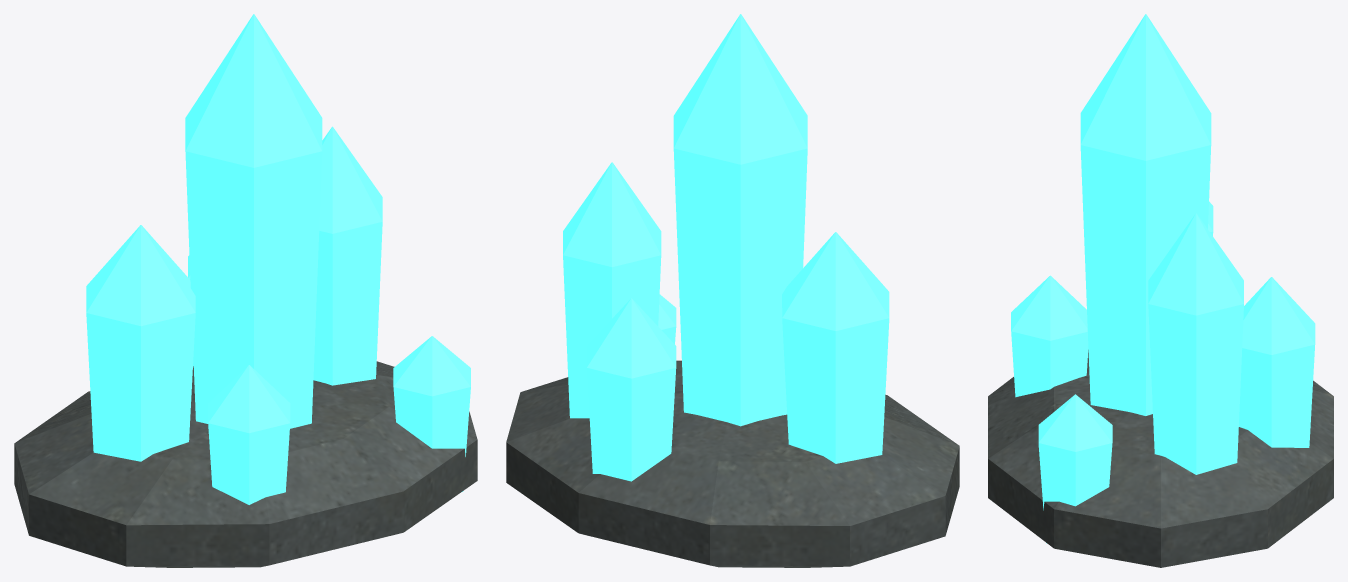
The picture shows the model from 3 angles, left to right: view 1: azimuth 30°, elevation 25°; view 2: azimuth 150°, elevation 25°; view 3: azimuth 270°, elevation 25°; orthographic projection. The views are drawn at different scales.
Parts seen in each view (by area): view 1: body; view 2: body; view 3: body.
Part boxes in pixels (<box>): body: <box>14,14,477,567</box>; body: <box>506,14,959,567</box>; body: <box>988,14,1333,567</box>.
Size of the model in its own units: 0.9511 by 1.09 by 0.6875.
Materials: 2 (1 with a texture image).
